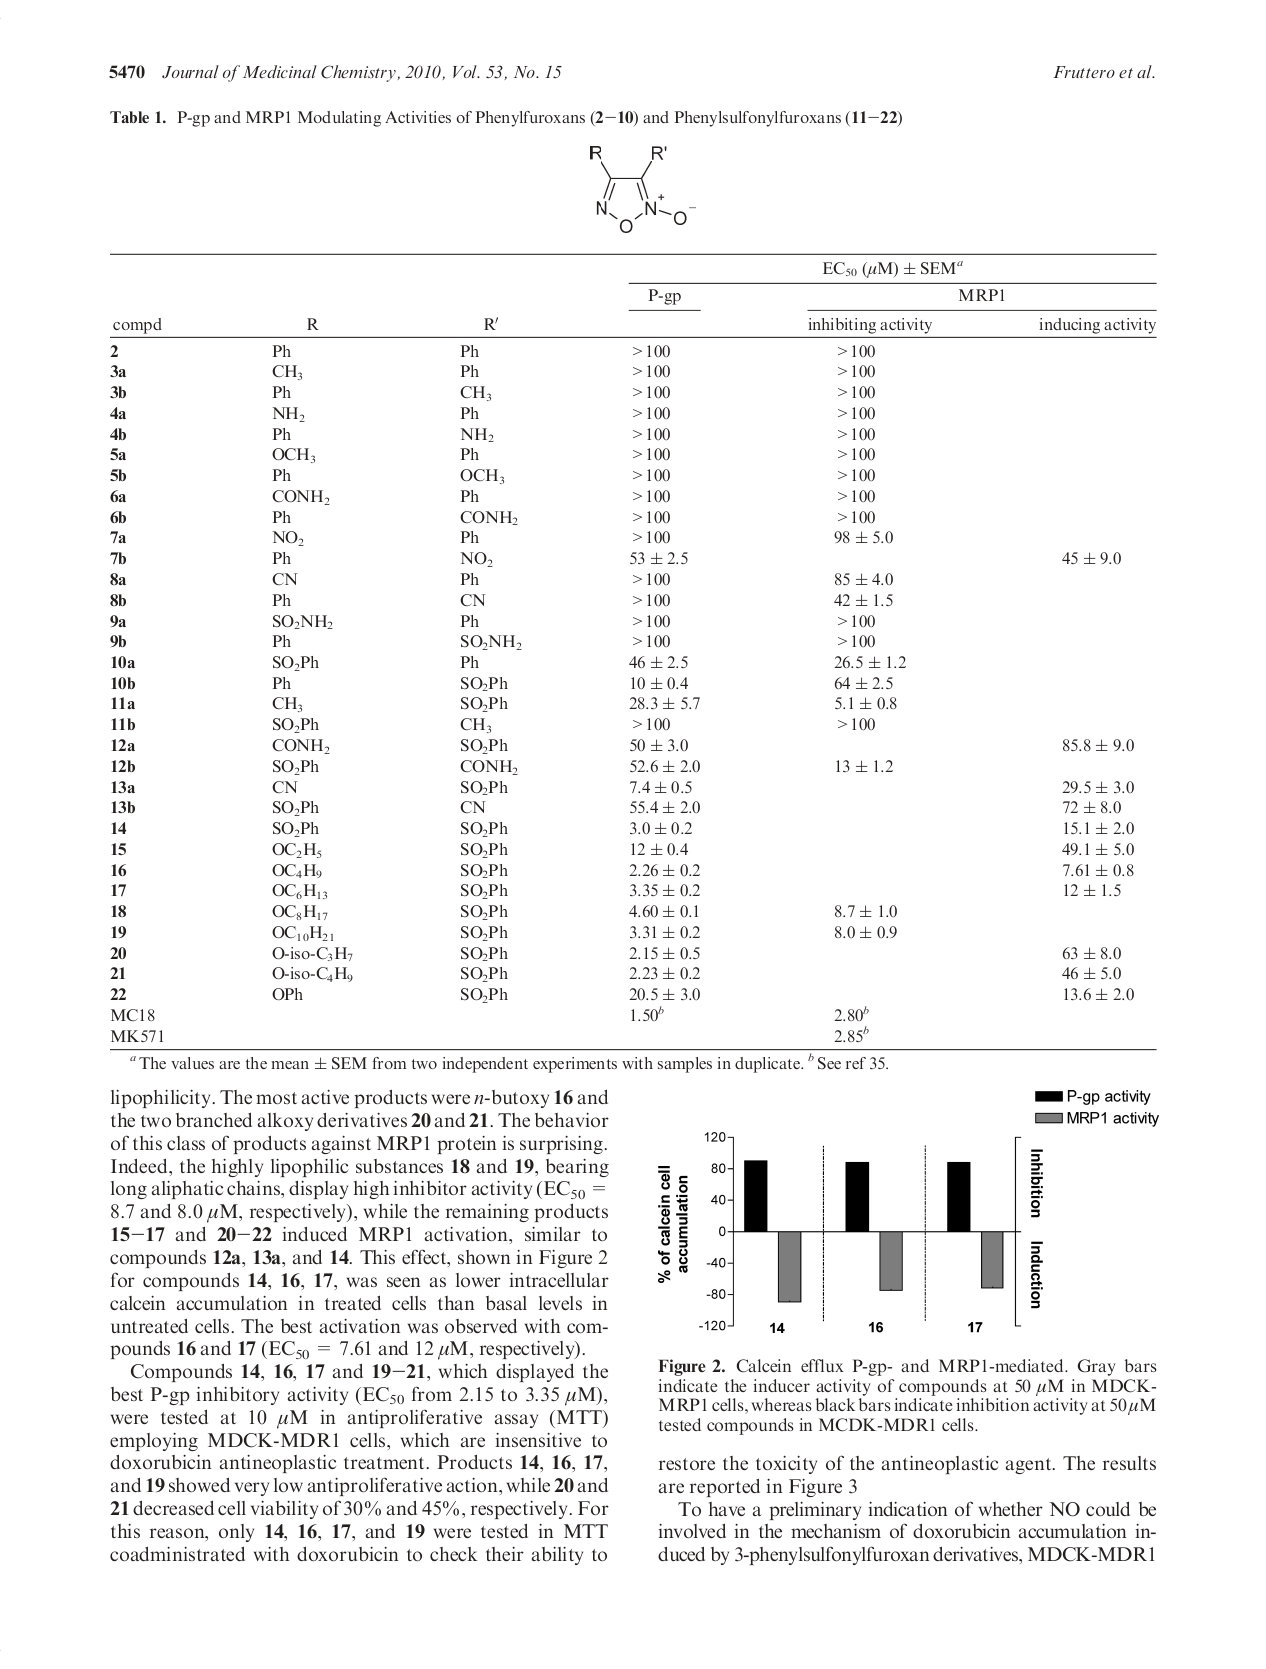exist_molecular: (572, 141, 701, 239)
